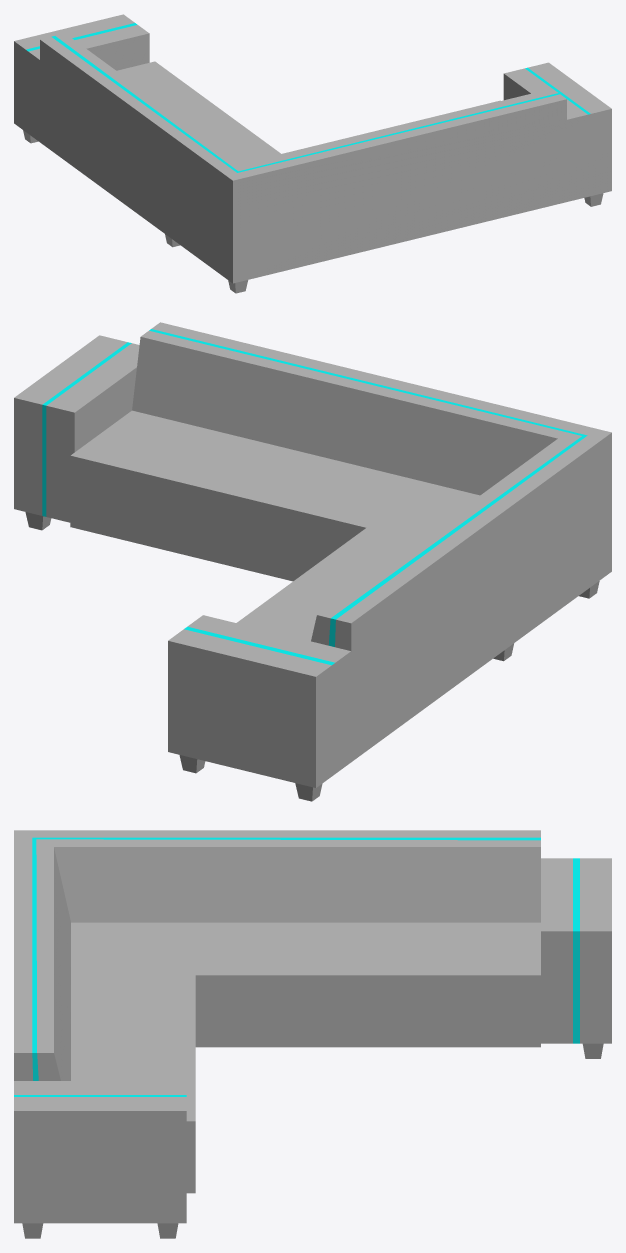
Rendered from loungeDesignSofaCorner.glb.
3 renders of one model, top to bottom at view 1: azimuth 30°, elevation 25°; view 2: azimuth 150°, elevation 25°; view 3: azimuth 270°, elevation 25°, orthographic. The views are drawn at different scales.
Parts seen in each view (by area): view 1: loungeDesignSofaCorner; view 2: loungeDesignSofaCorner; view 3: loungeDesignSofaCorner.
Part boxes in pixels (x1,y1,x2,y2): loungeDesignSofaCorner: (14,14,611,293); loungeDesignSofaCorner: (14,322,611,801); loungeDesignSofaCorner: (14,830,611,1238).
Size of the model in its own units: 2.32 by 0.687 by 2.32.
